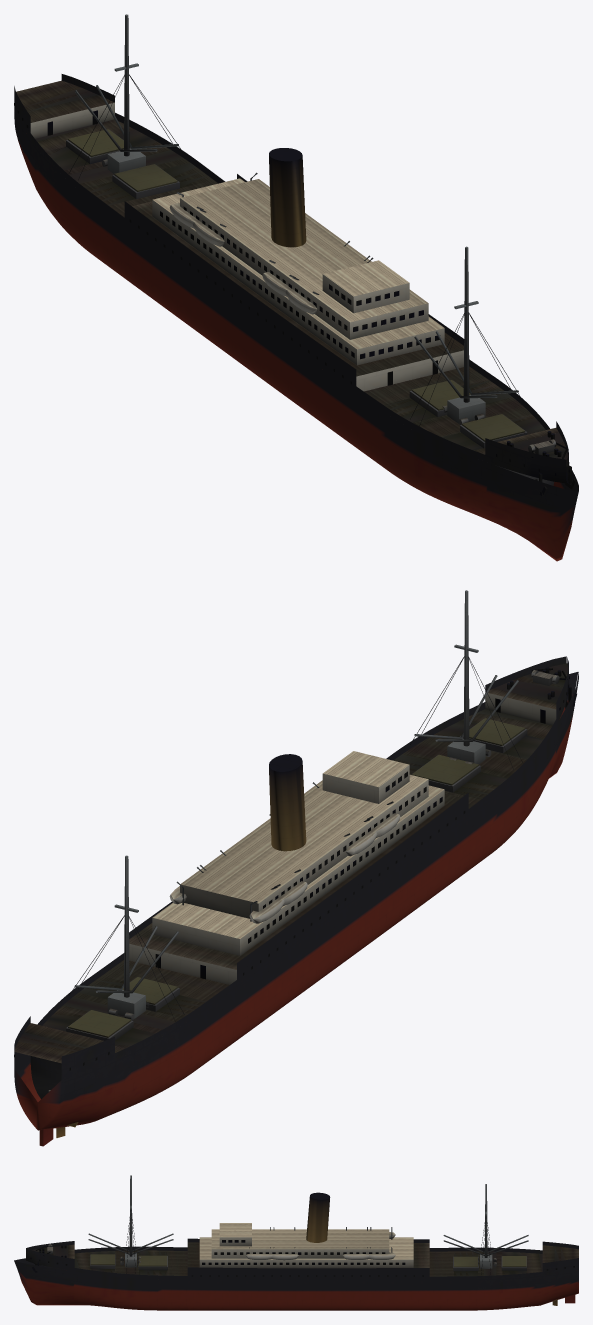
Rendered from model_built.glb.
3 views of the same model, one above another, from view 1: azimuth 30°, elevation 25°; view 2: azimuth 150°, elevation 25°; view 3: azimuth 270°, elevation 25° (orthographic). The views are drawn at different scales.
Parts seen in each view (by area): view 1: main; view 2: main; view 3: main.
Part boxes in pixels (<box>): main: <box>14,14,578,561</box>; main: <box>14,590,578,1146</box>; main: <box>14,1175,578,1310</box>.
Size of the model in its own units: 16.92 by 35.52 by 140.
Materials: 2 (2 with a texture image).
